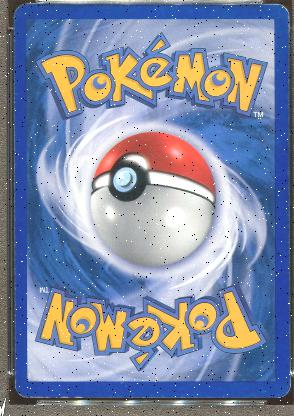Card: (12, 2, 290, 400)
Corner Wear: (277, 3, 290, 31), (273, 380, 289, 400), (14, 380, 29, 398)
Edge Wear: (14, 14, 16, 356), (100, 396, 245, 398), (26, 396, 85, 398)
Scratch: (275, 34, 278, 42), (124, 6, 129, 10)
